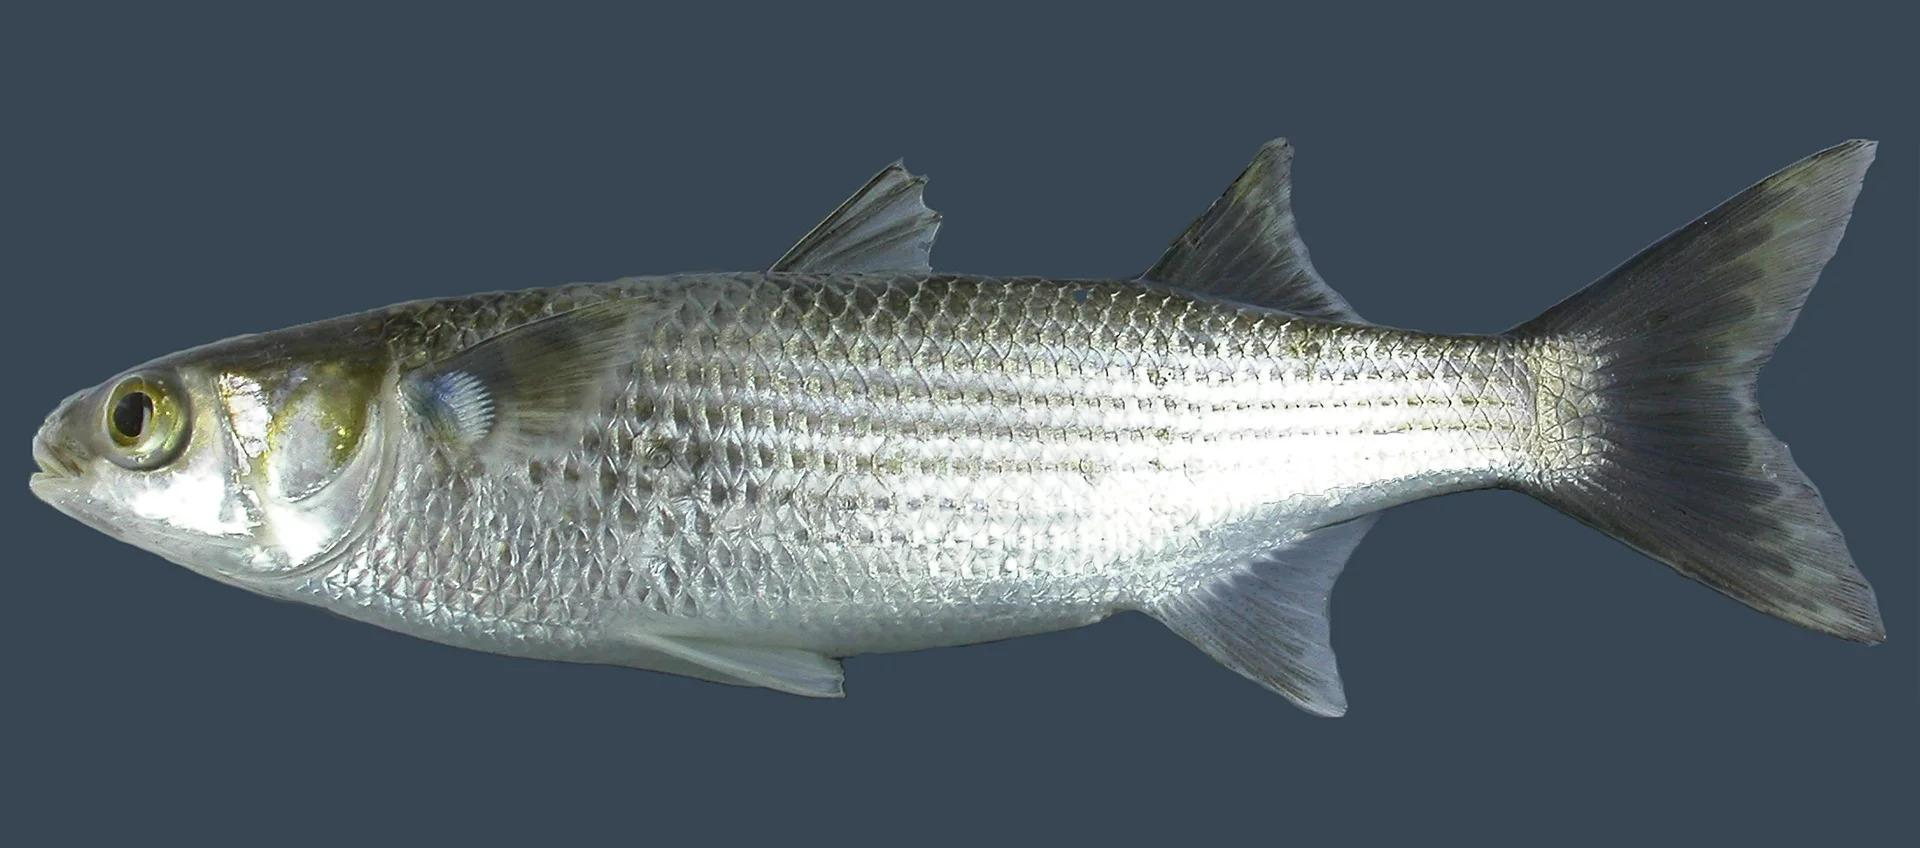Mullet: (28, 98, 1898, 748)
